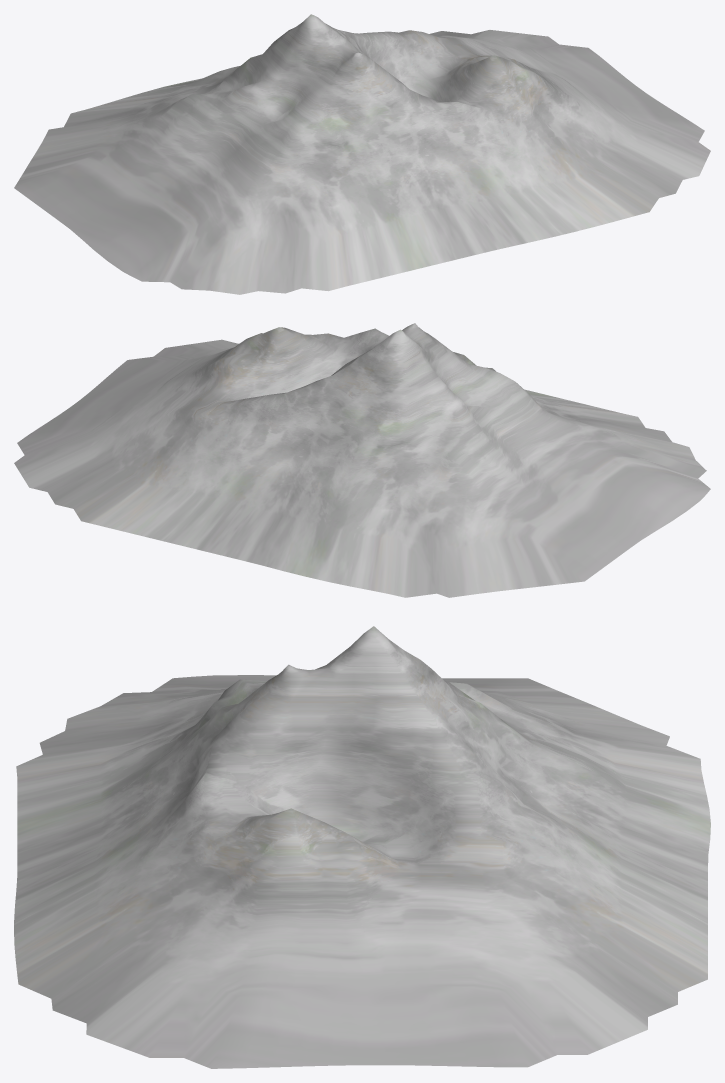
The model's file is P_Mountain03.obj.
The picture shows the model from 3 angles, top to bottom: view 1: azimuth 30°, elevation 25°; view 2: azimuth 150°, elevation 25°; view 3: azimuth 270°, elevation 25°; orthographic projection. The views are drawn at different scales.
Size of the model in its own units: 3451 by 882 by 2580.
